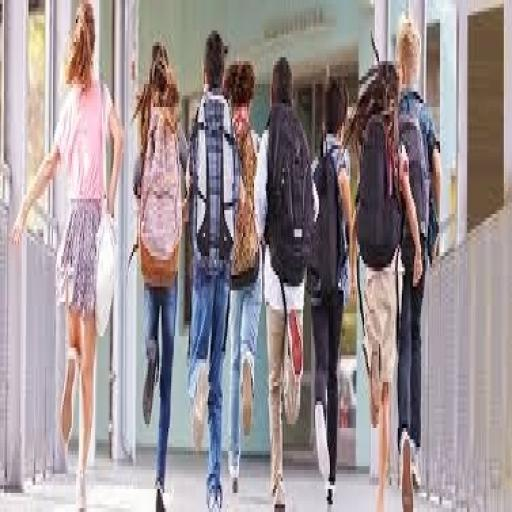running: (10, 0, 126, 508), (344, 54, 425, 508), (252, 50, 316, 508), (183, 27, 243, 508), (130, 38, 190, 508), (393, 15, 444, 508), (307, 73, 356, 508)
